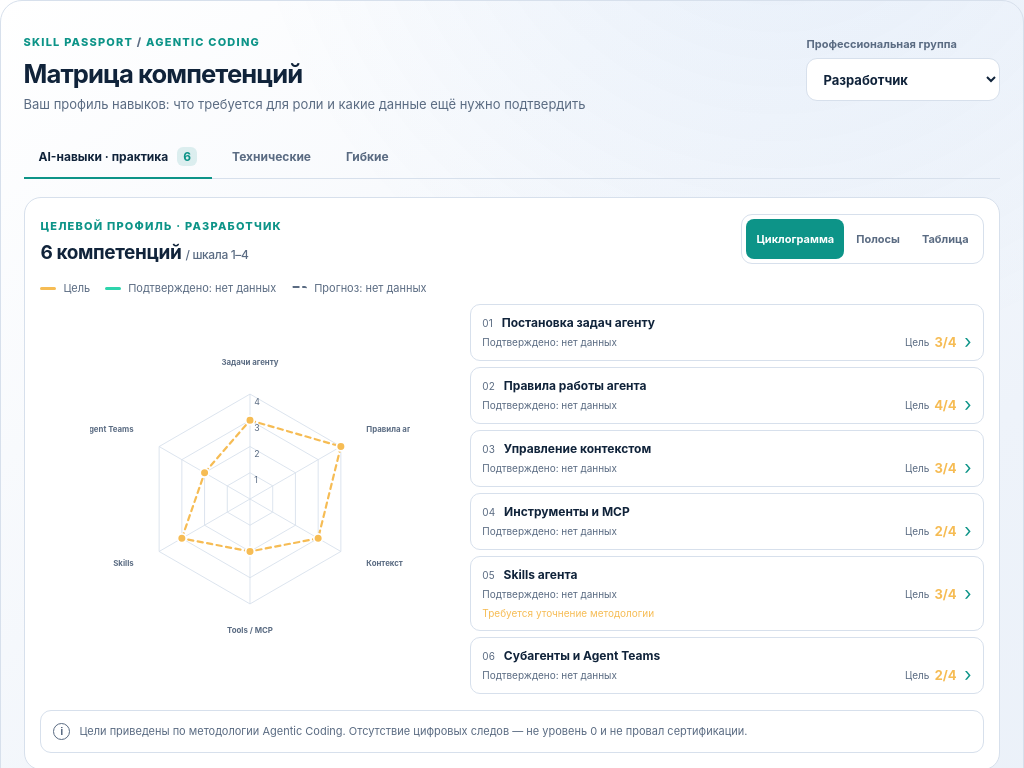
Test case: Agentic Coding source-derived profile › switches radar, bars and table while preserving six required axes
expect the element named "Значения целевого профиля" shows "Постановка задач агенту": met, box [470, 304, 984, 361]
Click the button "Полосы" at [878, 239], box [846, 219, 910, 259]
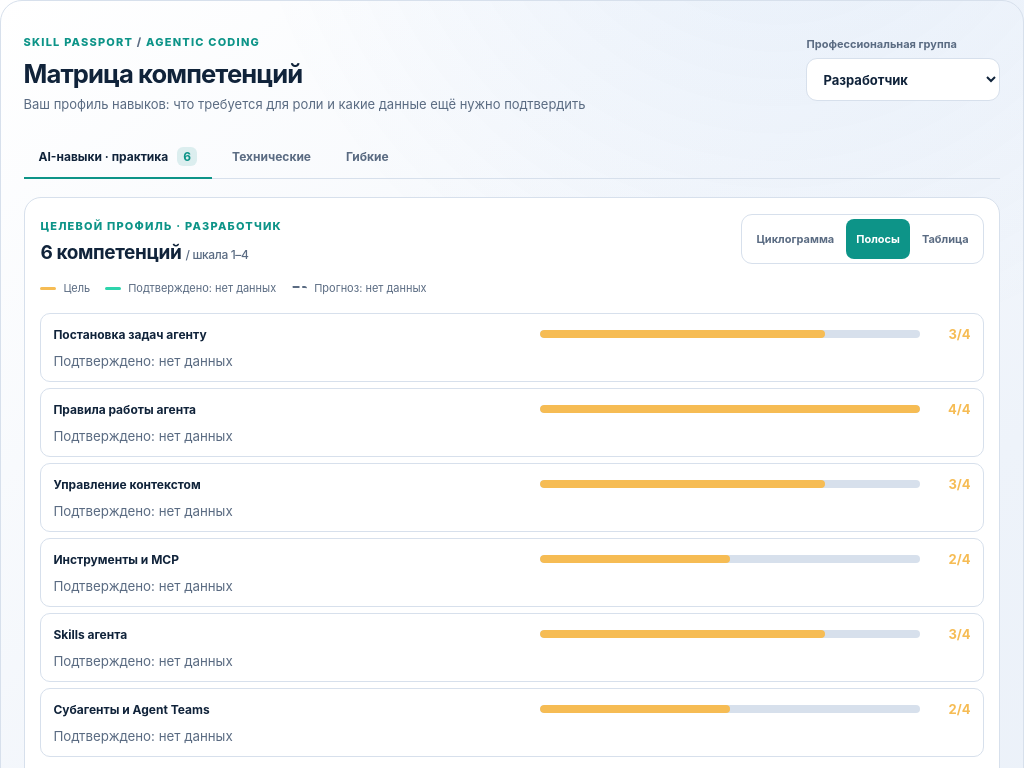
expect the button "Полосы" is pressed: met, box [846, 219, 910, 259]
Click the button "Таблица" at [945, 239], box [912, 219, 979, 259]
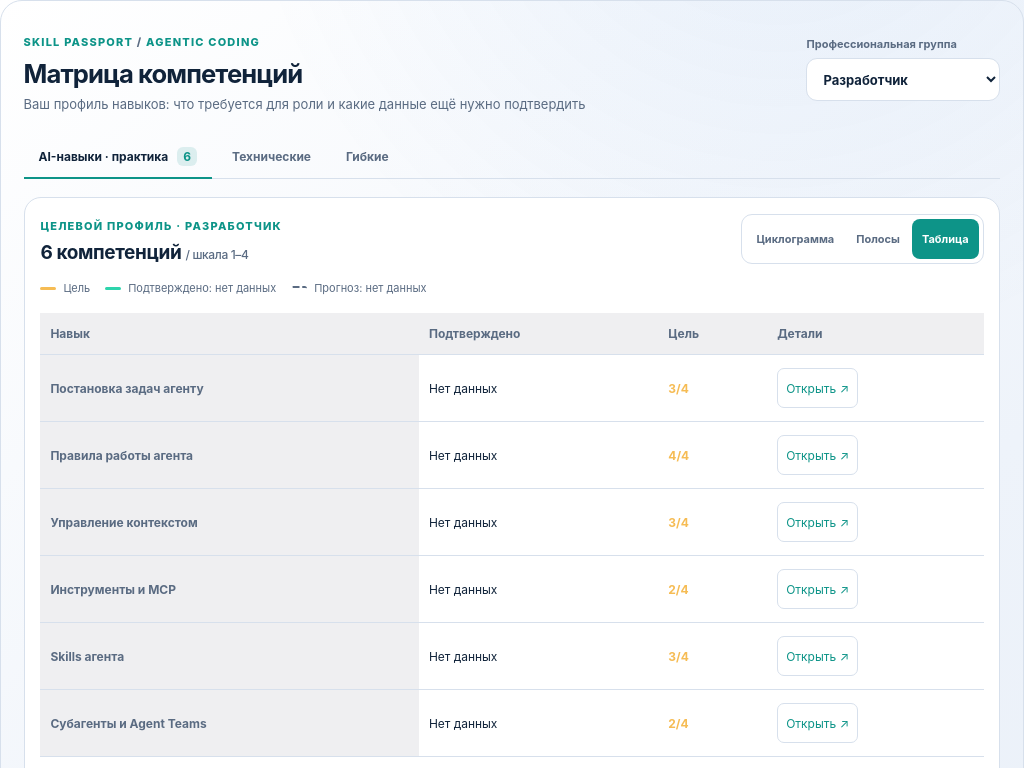
expect the number of rows is 7: met
expect the text "Нет данных" is shown 6 times: met, box [419, 355, 658, 422]; [419, 422, 658, 489]; [419, 489, 658, 556]; [419, 556, 658, 623]; [419, 623, 658, 690]; [419, 690, 658, 757]
Click the button "Циклограмма" at [795, 239], box [746, 219, 844, 259]
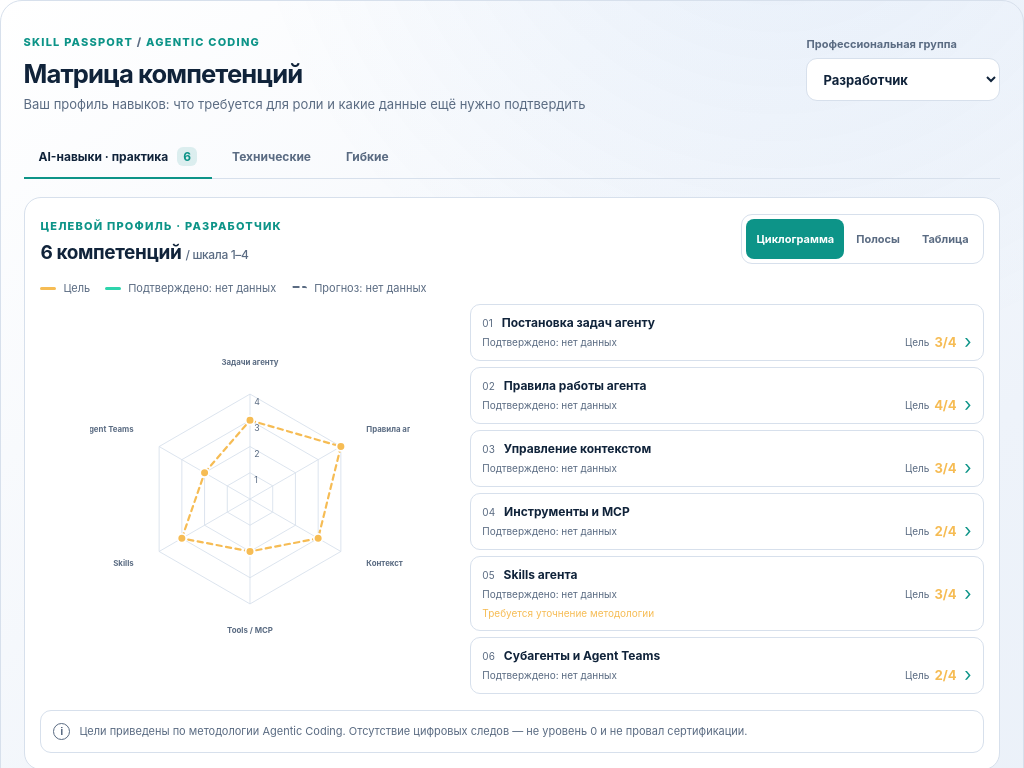
expect the picture is shown: met, box [90, 339, 410, 659]
